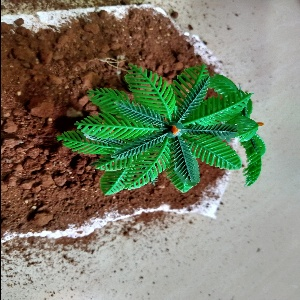plant: (59, 62, 281, 212)
